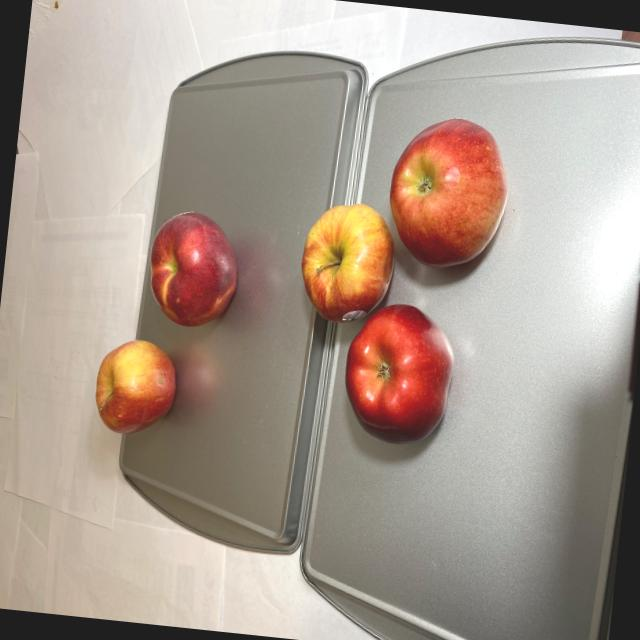apple: (282, 99, 514, 456), (91, 201, 257, 454)
